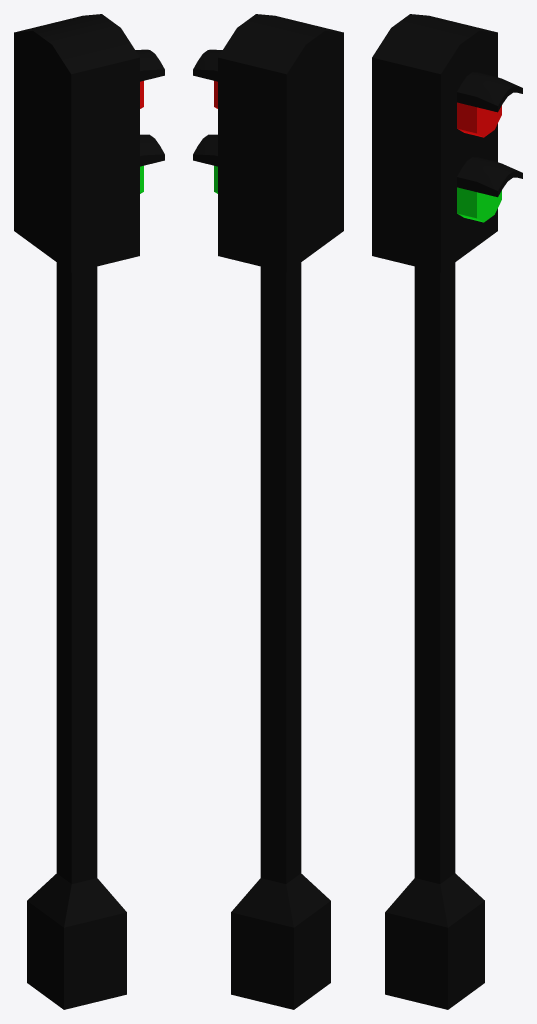
The model's file is Signal_02.FBX.
3 renders of one model, left to right at view 1: azimuth 30°, elevation 25°; view 2: azimuth 150°, elevation 25°; view 3: azimuth 330°, elevation 25°, orthographic.
Parts seen in each view (by area): view 1: Signal_02; view 2: Signal_02; view 3: Signal_02.
Part boxes in pixels (bbox=[...]): Signal_02: bbox=[14, 14, 164, 1009]; Signal_02: bbox=[193, 14, 343, 1009]; Signal_02: bbox=[372, 14, 522, 1009].
Bounding box in the file's own units: 0.796 × 6.64 × 0.7172.
